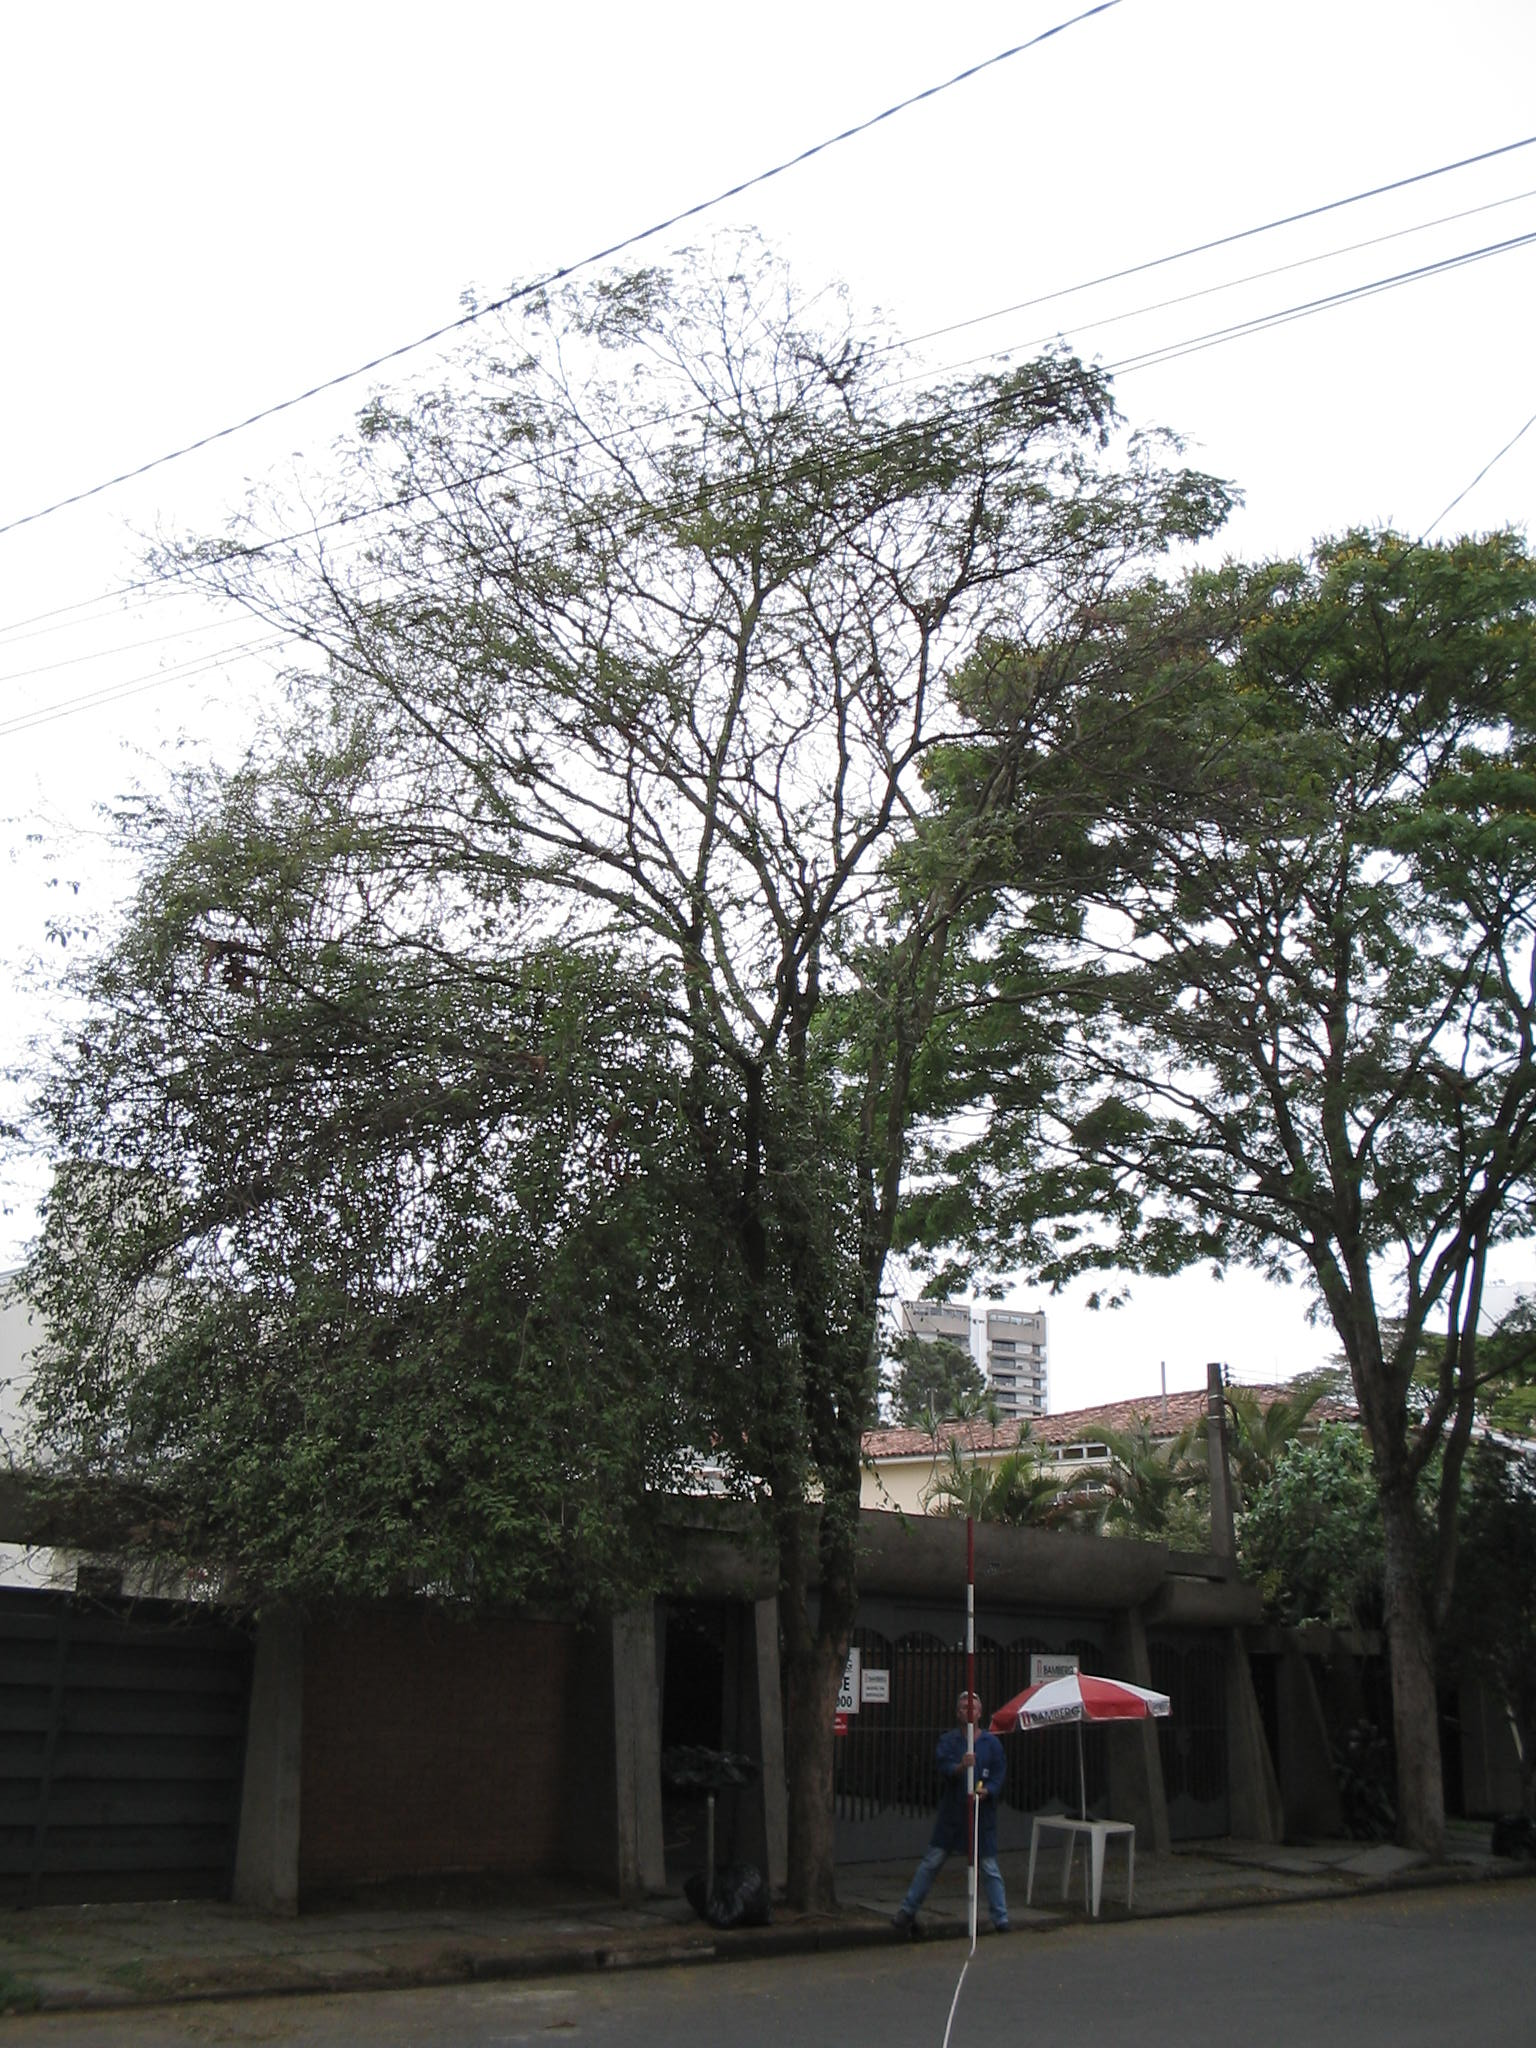crown: (10, 226, 1229, 1634), (883, 537, 1533, 1329)
stem: (741, 1642, 886, 1913), (1350, 1608, 1483, 1863)
stick: (936, 1513, 1008, 1942)
tree: (10, 224, 1236, 1921), (878, 534, 1530, 1867)
